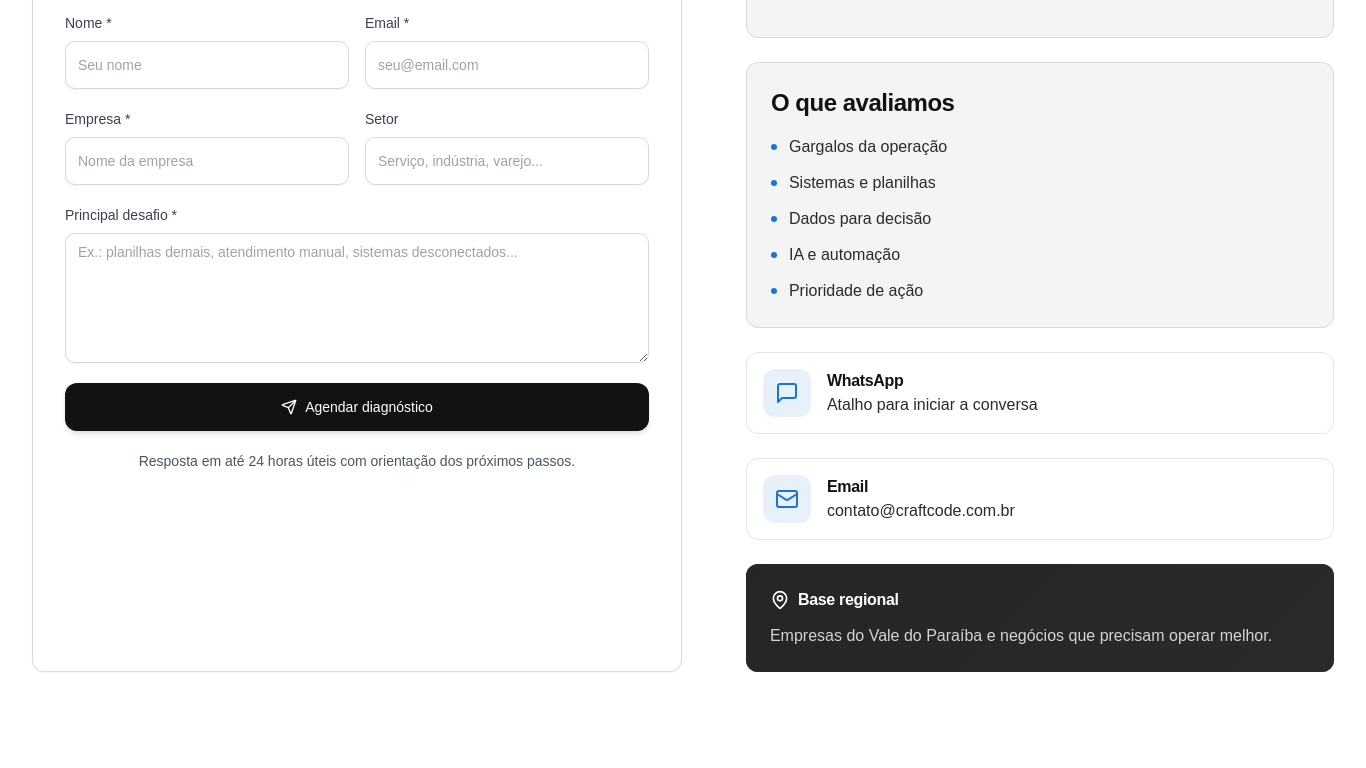
Scenario: Contact › shows field validation before submitting incomplete data
(page scrolled)
Click the button "Agendar diagnóstico" at [357, 407], box [65,383,649,431]
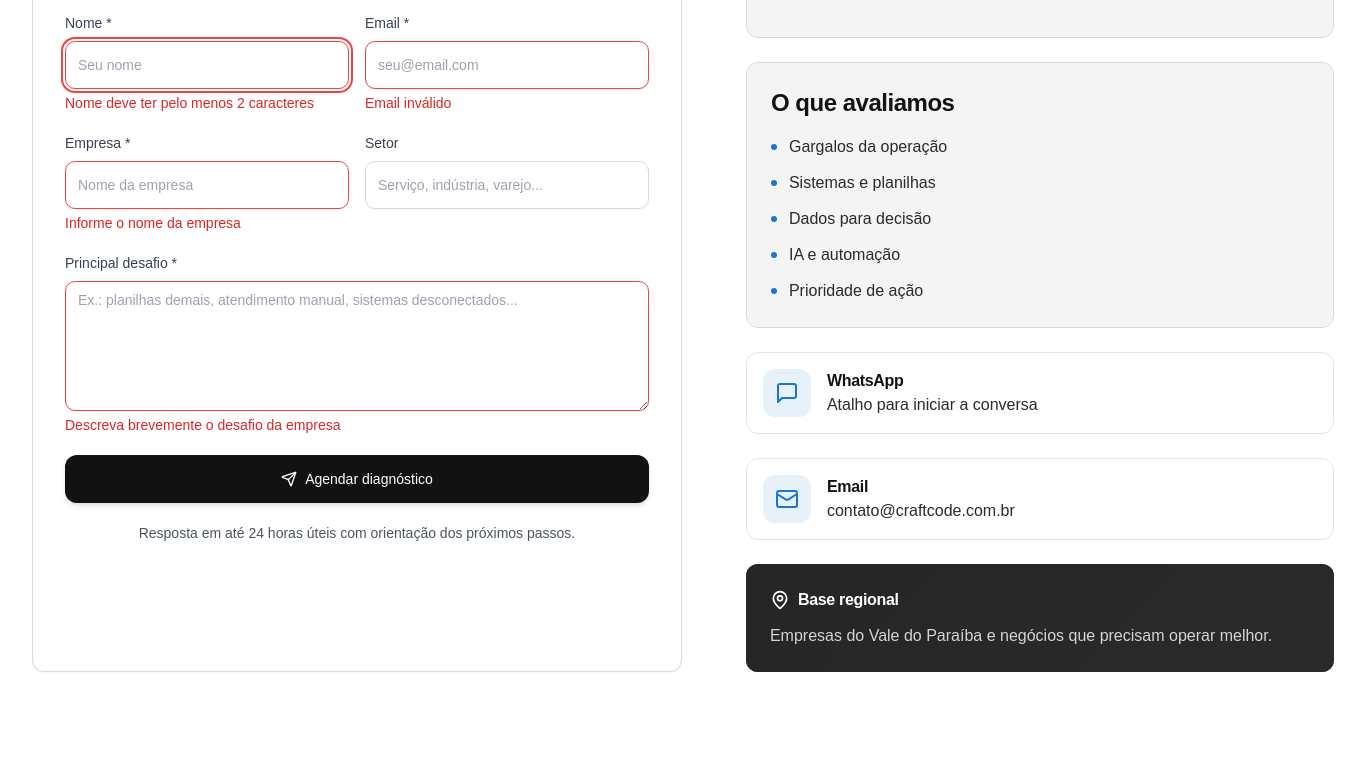
expect the text "Nome deve ter pelo menos 2 caracteres" is shown: met, box [65,93,349,113]
expect the text "Email inválido" is shown: met, box [365,95,451,111]
